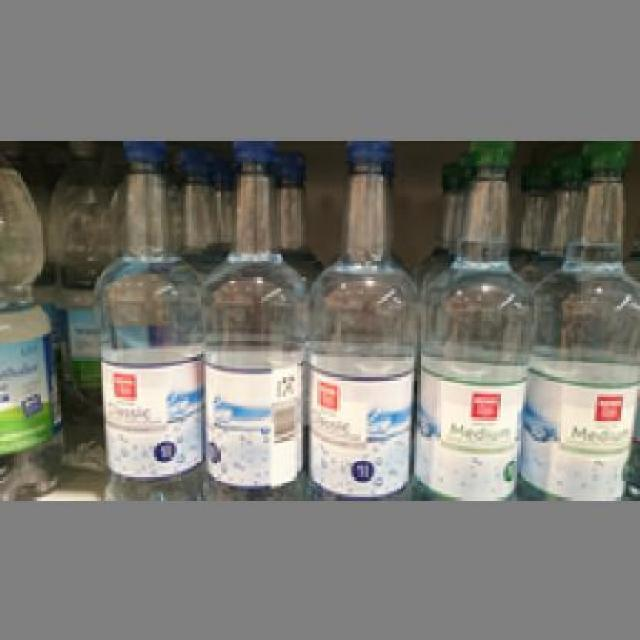Water: (414, 140, 532, 497), (186, 140, 303, 497), (305, 140, 418, 494), (532, 140, 638, 497), (92, 137, 195, 497)
